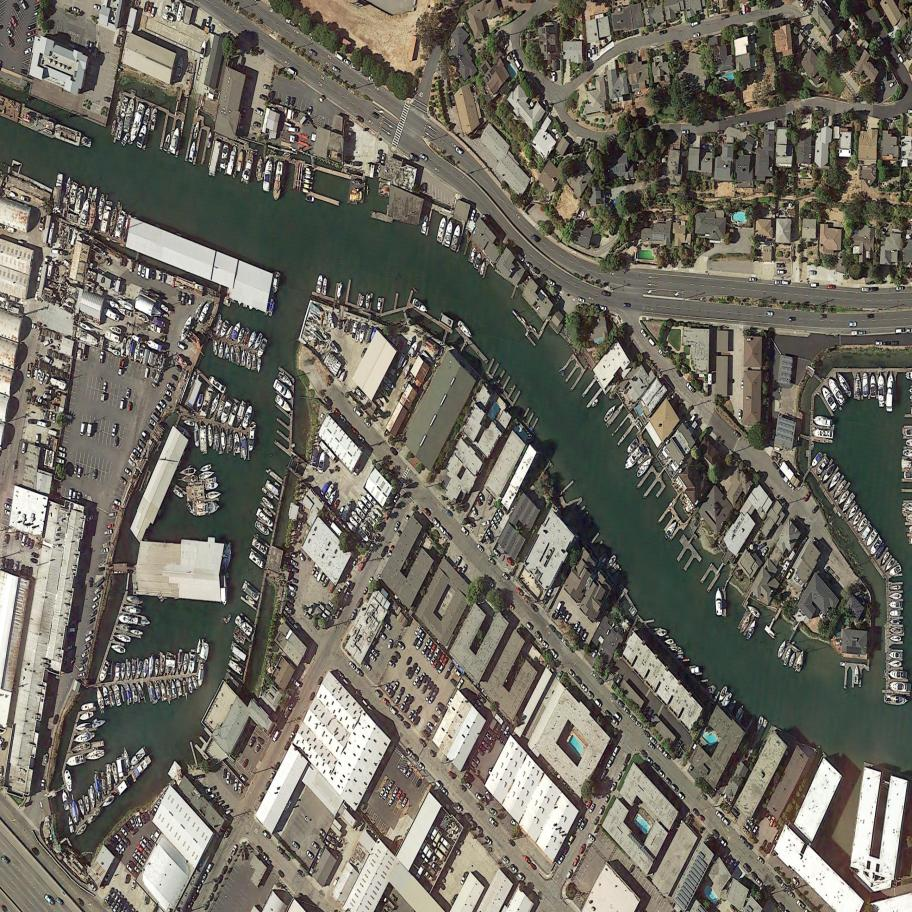large-vehicle: (381, 896, 396, 912), (438, 835, 452, 850), (432, 847, 446, 861), (436, 841, 449, 856), (420, 843, 432, 859), (431, 832, 442, 849), (414, 864, 425, 881), (423, 848, 435, 863), (429, 826, 440, 841), (117, 359, 125, 377), (114, 277, 122, 293), (286, 67, 298, 77), (239, 846, 247, 861), (86, 423, 93, 438), (79, 422, 86, 436), (287, 126, 299, 133)
ship: (14, 102, 61, 139), (51, 122, 85, 147), (128, 102, 147, 144), (825, 376, 848, 407), (620, 445, 645, 473), (270, 378, 296, 403), (130, 754, 154, 781), (833, 370, 855, 399), (271, 161, 286, 203), (197, 386, 215, 421), (231, 614, 256, 638), (218, 539, 235, 574), (819, 385, 840, 413), (226, 641, 250, 664), (272, 393, 295, 416), (52, 171, 64, 215), (122, 98, 136, 134), (233, 399, 249, 430), (178, 313, 194, 344), (254, 508, 276, 530), (455, 319, 476, 342), (634, 456, 655, 479), (240, 582, 262, 603), (275, 369, 297, 390), (126, 747, 148, 768), (839, 492, 858, 516), (262, 157, 274, 194), (242, 151, 255, 185), (207, 375, 229, 395), (225, 658, 247, 678), (219, 398, 235, 425), (252, 519, 273, 539), (114, 208, 127, 240), (831, 478, 849, 501), (86, 201, 98, 235), (214, 394, 228, 423), (226, 401, 241, 428), (661, 519, 679, 541), (193, 502, 221, 516), (208, 391, 223, 417), (226, 145, 238, 177), (263, 479, 283, 498), (247, 551, 267, 570), (820, 463, 838, 484), (601, 403, 619, 424), (449, 223, 462, 252), (435, 216, 448, 245), (197, 301, 212, 326), (814, 456, 831, 478), (69, 794, 81, 825), (738, 612, 754, 635), (883, 693, 909, 707), (250, 537, 270, 555), (169, 126, 181, 156), (83, 748, 107, 763), (410, 298, 431, 315), (241, 405, 255, 430), (443, 219, 455, 248), (744, 618, 759, 641), (826, 471, 842, 492), (97, 660, 111, 684), (108, 206, 119, 236), (886, 371, 894, 412), (100, 206, 112, 233), (171, 352, 190, 369), (175, 424, 194, 441), (868, 536, 884, 556), (80, 198, 91, 227), (136, 123, 148, 149), (72, 731, 96, 744), (219, 143, 230, 171), (255, 337, 269, 359), (624, 437, 641, 455), (745, 602, 762, 620), (218, 576, 228, 606), (340, 500, 353, 523), (94, 685, 105, 712), (813, 414, 834, 428), (406, 339, 420, 360), (260, 495, 277, 512), (100, 793, 117, 810), (73, 822, 90, 839), (809, 451, 825, 469), (247, 421, 256, 453), (794, 649, 806, 673), (812, 427, 834, 440), (68, 181, 79, 207), (864, 529, 879, 548), (716, 684, 730, 704), (116, 298, 136, 312), (93, 772, 103, 800), (65, 754, 86, 767), (358, 493, 374, 510), (855, 516, 870, 534), (859, 523, 874, 541), (196, 663, 206, 690), (326, 339, 341, 357), (132, 310, 151, 324), (145, 338, 164, 352), (776, 638, 788, 660), (63, 769, 74, 793), (70, 741, 92, 753), (96, 193, 106, 219), (218, 319, 231, 339), (121, 603, 142, 615), (837, 489, 851, 507), (846, 503, 860, 521), (850, 511, 864, 529), (192, 301, 204, 322), (878, 373, 885, 408), (117, 614, 139, 625), (149, 108, 159, 132), (113, 683, 123, 707), (271, 271, 281, 295), (246, 330, 258, 350), (252, 332, 264, 352), (419, 350, 434, 366), (199, 641, 211, 661), (356, 527, 370, 544), (604, 554, 618, 571), (151, 316, 168, 330), (146, 322, 164, 335), (323, 483, 336, 501), (116, 306, 134, 319), (122, 747, 131, 773), (200, 426, 208, 455), (175, 56, 186, 77), (125, 594, 144, 606), (113, 632, 132, 644), (198, 469, 217, 481), (382, 376, 397, 391), (356, 499, 370, 515), (385, 334, 401, 348), (359, 523, 373, 539), (159, 11, 176, 24), (879, 550, 892, 567), (883, 556, 896, 573), (119, 131, 132, 148), (119, 97, 129, 119), (194, 392, 205, 412), (231, 321, 242, 341), (311, 448, 321, 470), (722, 691, 734, 709), (344, 519, 358, 534), (349, 509, 363, 524), (353, 505, 367, 520), (142, 105, 152, 126), (171, 486, 186, 500), (782, 647, 792, 668), (101, 685, 111, 706), (325, 311, 336, 330), (887, 564, 903, 577), (189, 648, 197, 674), (336, 369, 349, 385), (375, 390, 388, 406), (317, 451, 326, 474), (236, 150, 245, 173), (188, 140, 197, 163), (61, 789, 70, 812), (267, 295, 276, 318), (110, 643, 127, 655), (162, 133, 172, 153), (179, 473, 199, 483), (115, 119, 124, 141), (396, 353, 407, 371), (261, 506, 275, 520), (715, 588, 722, 616), (365, 492, 378, 507), (319, 481, 331, 497), (327, 489, 339, 505), (100, 772, 108, 796), (89, 785, 97, 809), (199, 40, 208, 61), (195, 637, 202, 664), (421, 214, 430, 235), (315, 273, 324, 294), (116, 757, 125, 778), (734, 704, 745, 721), (90, 718, 107, 729), (78, 710, 95, 721), (401, 363, 412, 380), (80, 135, 94, 148), (347, 515, 360, 529), (193, 421, 200, 447), (241, 435, 248, 461), (372, 394, 385, 408), (153, 680, 162, 700), (108, 687, 117, 707), (889, 670, 907, 680), (77, 798, 86, 818), (236, 327, 246, 345), (358, 323, 366, 345), (78, 322, 94, 333), (111, 762, 119, 784), (104, 299, 120, 310), (164, 654, 172, 676), (148, 654, 155, 679), (473, 251, 482, 270), (469, 245, 478, 264), (192, 121, 201, 140), (75, 722, 92, 732), (214, 319, 224, 336), (404, 336, 414, 353), (244, 594, 257, 607), (148, 681, 156, 702), (133, 342, 141, 363), (368, 511, 380, 525), (184, 501, 195, 516), (653, 627, 668, 638), (108, 325, 123, 336), (179, 467, 197, 476), (182, 679, 189, 702), (125, 684, 133, 704), (160, 681, 168, 701), (170, 679, 178, 699), (182, 653, 190, 673), (64, 175, 72, 195), (79, 702, 95, 712), (124, 338, 132, 358), (855, 373, 861, 399), (214, 426, 220, 452), (256, 157, 263, 179), (351, 322, 359, 341), (136, 660, 144, 679), (131, 684, 139, 703), (110, 119, 118, 138), (67, 815, 75, 834), (119, 337, 127, 356), (142, 658, 149, 679), (365, 515, 377, 527), (378, 386, 390, 398), (478, 261, 487, 277), (206, 131, 214, 149), (206, 491, 222, 500), (220, 428, 226, 452), (788, 651, 796, 669), (242, 331, 251, 347), (609, 564, 622, 575), (364, 520, 375, 533), (138, 344, 145, 364), (336, 282, 343, 302), (870, 374, 876, 397), (177, 648, 183, 671), (137, 683, 145, 700), (756, 716, 764, 733), (190, 675, 199, 690), (225, 325, 234, 340), (114, 662, 121, 681), (166, 682, 173, 701), (120, 684, 127, 703), (380, 381, 391, 393), (227, 430, 233, 452), (131, 334, 144, 344), (109, 348, 122, 358), (342, 319, 350, 335), (171, 655, 177, 676), (205, 481, 219, 490), (234, 432, 240, 453), (863, 372, 868, 397), (589, 398, 600, 409), (6, 190, 18, 200), (131, 659, 137, 679), (322, 277, 328, 297), (176, 679, 183, 696), (84, 796, 91, 813), (116, 623, 129, 632), (208, 424, 213, 447), (120, 662, 126, 681), (854, 665, 860, 684), (160, 654, 166, 673), (92, 186, 99, 202), (154, 659, 160, 677), (183, 419, 196, 427), (199, 464, 212, 472), (889, 635, 902, 643), (365, 293, 371, 310), (889, 652, 903, 659), (888, 660, 902, 667), (126, 661, 131, 680), (246, 351, 251, 370), (129, 629, 142, 636), (889, 601, 902, 608), (889, 627, 902, 634), (188, 676, 193, 694), (231, 345, 236, 363), (219, 341, 224, 359), (304, 195, 315, 203), (358, 295, 365, 307), (889, 610, 901, 617), (105, 198, 114, 207), (256, 358, 261, 374), (87, 185, 93, 198), (377, 298, 383, 311), (889, 593, 902, 599), (114, 105, 121, 116), (225, 344, 230, 359), (173, 2, 179, 14), (664, 638, 674, 645), (252, 353, 256, 370), (889, 585, 902, 590), (242, 350, 246, 366), (214, 340, 218, 356), (890, 619, 900, 625), (226, 613, 232, 623), (222, 617, 228, 625), (171, 2, 175, 11)
small-vehicle: (42, 892, 58, 906), (351, 405, 364, 419), (683, 381, 697, 394), (352, 462, 363, 478), (459, 870, 470, 886), (487, 816, 500, 828), (614, 673, 625, 687), (578, 817, 588, 832), (521, 595, 533, 607), (795, 898, 807, 910), (29, 846, 41, 858), (430, 517, 442, 529), (459, 525, 471, 537), (548, 648, 560, 660), (484, 576, 495, 589), (355, 820, 366, 833), (383, 508, 393, 522), (309, 860, 318, 875), (36, 396, 48, 407), (131, 447, 142, 459), (81, 641, 93, 652), (90, 593, 102, 604), (609, 691, 620, 703), (662, 777, 674, 788), (533, 631, 544, 643), (486, 555, 497, 567), (504, 556, 516, 567), (713, 809, 724, 821), (323, 396, 334, 408), (556, 854, 567, 866), (474, 542, 485, 554), (41, 392, 54, 402), (4, 35, 14, 48), (229, 844, 239, 857), (599, 767, 609, 780), (378, 520, 388, 533), (408, 153, 421, 163), (349, 608, 359, 621), (605, 755, 615, 768), (566, 833, 576, 846), (128, 816, 137, 830), (785, 567, 794, 581), (75, 897, 86, 908), (136, 439, 147, 450), (615, 698, 626, 709), (641, 728, 652, 739), (505, 600, 516, 611), (742, 822, 753, 833), (514, 587, 525, 598), (283, 604, 294, 615), (718, 837, 729, 848), (790, 876, 801, 887), (754, 877, 765, 888), (646, 337, 657, 348), (656, 768, 667, 779), (586, 832, 597, 843), (508, 863, 519, 874), (261, 829, 272, 840), (291, 678, 302, 689), (430, 714, 441, 725), (421, 729, 432, 740), (608, 716, 619, 727), (362, 661, 373, 672), (388, 705, 399, 716), (612, 711, 623, 722), (566, 668, 577, 679), (10, 1, 20, 13), (0, 740, 10, 752), (77, 664, 89, 674), (639, 748, 649, 760), (529, 602, 539, 614), (355, 597, 365, 609), (802, 491, 812, 503), (785, 889, 797, 899), (417, 760, 427, 772), (418, 737, 428, 749), (487, 764, 497, 776), (426, 679, 436, 691), (401, 703, 411, 715), (423, 724, 433, 736), (455, 678, 465, 690), (5, 26, 14, 39), (106, 895, 115, 908), (89, 879, 98, 892), (896, 52, 905, 65), (386, 779, 395, 792), (571, 855, 580, 868), (222, 826, 231, 839), (392, 520, 401, 533), (485, 528, 494, 541), (38, 216, 45, 232), (858, 594, 866, 608), (43, 355, 54, 365), (165, 383, 176, 393), (157, 399, 167, 410), (54, 896, 65, 906), (148, 833, 158, 844), (119, 826, 129, 837), (55, 456, 66, 466), (126, 458, 137, 468), (134, 443, 144, 454), (79, 656, 90, 666), (80, 650, 91, 660), (651, 762, 662, 772), (363, 417, 373, 428), (382, 621, 392, 632), (698, 792, 709, 802), (356, 433, 366, 444), (348, 427, 359, 437), (332, 407, 342, 418), (285, 595, 296, 605), (389, 446, 399, 457), (367, 75, 378, 85), (355, 114, 366, 124), (531, 233, 541, 244), (786, 481, 796, 492), (760, 547, 770, 558), (810, 536, 820, 547), (730, 807, 740, 818), (743, 840, 753, 851), (773, 874, 784, 884), (687, 413, 697, 424), (657, 348, 667, 359), (639, 328, 649, 339), (353, 667, 363, 678), (474, 802, 485, 812), (463, 813, 474, 823), (440, 786, 450, 797), (522, 854, 532, 865), (483, 835, 493, 846), (509, 819, 520, 829), (474, 791, 484, 802), (271, 731, 281, 742), (305, 849, 315, 860), (255, 736, 266, 746), (669, 783, 680, 793), (431, 686, 441, 697), (484, 731, 494, 742), (482, 736, 492, 747), (472, 754, 482, 765), (422, 508, 432, 519), (438, 526, 448, 537), (444, 508, 455, 518), (404, 655, 414, 666), (406, 669, 416, 680), (397, 686, 407, 697), (406, 695, 416, 706), (401, 720, 412, 730), (412, 715, 422, 726), (662, 750, 672, 761), (634, 719, 645, 729), (459, 563, 469, 574), (41, 338, 53, 347), (307, 48, 319, 57), (199, 872, 208, 884), (122, 822, 131, 834), (648, 713, 657, 725), (486, 494, 495, 506), (367, 542, 376, 554), (371, 533, 380, 545), (332, 499, 341, 511), (525, 74, 534, 86), (756, 542, 768, 551), (726, 858, 735, 870), (204, 786, 216, 795), (565, 868, 574, 880), (257, 791, 266, 803), (283, 740, 292, 752), (263, 779, 272, 791), (423, 647, 432, 659), (393, 694, 402, 706), (454, 555, 463, 567), (624, 752, 632, 765), (360, 347, 368, 360), (768, 815, 776, 828), (555, 601, 563, 614), (494, 512, 502, 525), (484, 533, 492, 546), (150, 413, 160, 423), (138, 854, 148, 864), (119, 840, 129, 850), (116, 843, 126, 853), (114, 846, 124, 856), (131, 851, 141, 861), (603, 709, 613, 719), (586, 690, 596, 700), (525, 622, 535, 632), (285, 600, 295, 610), (288, 558, 298, 568), (720, 816, 730, 826), (604, 198, 614, 208), (334, 52, 344, 62), (454, 146, 464, 156), (888, 79, 898, 89), (756, 855, 766, 865), (780, 882, 790, 892), (742, 863, 752, 873), (410, 753, 420, 763), (434, 780, 444, 790), (516, 872, 526, 882), (501, 855, 511, 865), (528, 861, 538, 871), (282, 852, 292, 862), (237, 774, 247, 784), (277, 869, 287, 879), (676, 791, 686, 801), (645, 756, 655, 766), (478, 743, 488, 753), (449, 678, 459, 688), (480, 740, 490, 750), (469, 760, 479, 770), (392, 650, 402, 660), (434, 706, 444, 716), (655, 743, 665, 753), (622, 706, 632, 716), (579, 683, 589, 693), (453, 667, 463, 677), (30, 322, 41, 331), (173, 364, 184, 373), (254, 108, 265, 117), (26, 29, 37, 38), (24, 35, 35, 44), (125, 820, 134, 831), (83, 635, 94, 644), (596, 647, 605, 658), (765, 812, 774, 823), (577, 628, 586, 639), (376, 573, 385, 584), (358, 560, 367, 571), (287, 585, 298, 594), (337, 506, 346, 517), (392, 493, 401, 504), (330, 65, 341, 74), (514, 60, 523, 71), (876, 36, 885, 47), (777, 468, 786, 479), (415, 777, 424, 788), (447, 770, 456, 781), (587, 802, 596, 813), (592, 815, 601, 826), (488, 808, 499, 817), (211, 795, 222, 804), (317, 827, 326, 838), (208, 791, 219, 800), (308, 691, 317, 702), (503, 725, 512, 736), (480, 520, 491, 529), (430, 683, 439, 694), (411, 636, 420, 647), (438, 653, 447, 664), (413, 625, 422, 636), (368, 652, 377, 663), (491, 516, 500, 527), (414, 639, 423, 650), (425, 651, 434, 662), (593, 698, 602, 709), (427, 694, 436, 705), (424, 691, 433, 702), (424, 636, 433, 647), (441, 656, 450, 667), (43, 372, 50, 386), (7, 20, 15, 32), (205, 862, 213, 874), (136, 816, 144, 828), (68, 656, 76, 668), (75, 671, 87, 679), (642, 705, 650, 717), (675, 739, 683, 751), (590, 648, 598, 660), (687, 762, 695, 774), (572, 621, 580, 633), (751, 825, 759, 837), (581, 631, 589, 643), (561, 609, 569, 621), (334, 588, 342, 600), (322, 576, 330, 588), (510, 50, 518, 62), (760, 838, 768, 850), (721, 851, 729, 863), (398, 792, 406, 804), (578, 843, 586, 855), (292, 724, 300, 736), (495, 729, 503, 741), (298, 552, 306, 564), (383, 681, 391, 693), (490, 520, 498, 532), (99, 351, 106, 364), (140, 265, 147, 278), (35, 369, 42, 382), (76, 466, 83, 479), (317, 847, 324, 860), (176, 342, 186, 351), (140, 432, 150, 441), (152, 408, 162, 417), (163, 394, 173, 403), (170, 373, 180, 382), (26, 363, 32, 378), (39, 370, 45, 385), (163, 4, 173, 13), (259, 93, 269, 102), (139, 435, 148, 445), (0, 855, 10, 864), (143, 846, 152, 856), (117, 830, 126, 840), (108, 839, 117, 849), (129, 856, 139, 865), (138, 839, 147, 849), (101, 540, 111, 549), (85, 514, 95, 523), (64, 412, 74, 421), (119, 477, 128, 487), (64, 644, 74, 653), (87, 617, 97, 626), (89, 609, 99, 618), (90, 602, 100, 611), (573, 676, 583, 685), (711, 828, 720, 838), (338, 414, 347, 424), (286, 589, 296, 598), (445, 532, 454, 542), (737, 835, 747, 844), (342, 57, 352, 66), (419, 153, 429, 162), (517, 254, 526, 264), (524, 261, 534, 270), (801, 30, 811, 39), (547, 278, 557, 287), (732, 429, 741, 439), (811, 505, 820, 515), (508, 838, 517, 848), (475, 826, 484, 836), (454, 802, 463, 812), (404, 748, 414, 757), (464, 779, 473, 789), (459, 784, 469, 793), (427, 748, 436, 758), (218, 804, 228, 813), (254, 845, 263, 855), (215, 799, 225, 808), (311, 841, 320, 851), (291, 840, 300, 850), (287, 701, 296, 711), (333, 834, 342, 844), (241, 759, 250, 769), (273, 761, 282, 771), (443, 670, 452, 680), (437, 702, 446, 712), (476, 747, 486, 756), (347, 660, 356, 670), (390, 654, 399, 664), (381, 697, 391, 706), (378, 632, 387, 642), (370, 648, 379, 658), (426, 721, 435, 731), (647, 741, 656, 751), (648, 735, 658, 744), (501, 572, 511, 581), (589, 669, 598, 679), (413, 666, 422, 676), (412, 676, 421, 686), (10, 16, 18, 27), (52, 714, 60, 725), (56, 451, 67, 459), (83, 629, 94, 637), (96, 566, 107, 574), (27, 539, 35, 550), (564, 613, 572, 624), (334, 609, 342, 620), (313, 568, 321, 579), (367, 576, 375, 587), (370, 112, 381, 120), (805, 5, 813, 16), (405, 768, 413, 779), (392, 787, 400, 798), (395, 789, 403, 800), (382, 789, 390, 800), (379, 786, 387, 797), (430, 643, 438, 654), (611, 746, 619, 757), (609, 781, 617, 792), (603, 793, 611, 804), (598, 804, 606, 815), (221, 864, 229, 875), (248, 737, 256, 748), (269, 769, 277, 780), (436, 649, 444, 660), (434, 660, 442, 671), (410, 662, 418, 673), (410, 712, 418, 723), (415, 704, 423, 715), (415, 679, 423, 690), (419, 631, 427, 642), (386, 684, 394, 695), (399, 701, 407, 712), (407, 709, 415, 720), (429, 655, 437, 666), (546, 586, 554, 597), (556, 670, 564, 681), (136, 263, 142, 277), (118, 398, 125, 410), (152, 804, 159, 816), (771, 818, 778, 830), (470, 209, 477, 221), (401, 797, 408, 809), (225, 771, 231, 785), (284, 708, 291, 720), (497, 507, 504, 519), (478, 492, 485, 504), (392, 680, 399, 692), (148, 418, 157, 427), (164, 389, 173, 398), (135, 862, 144, 871), (122, 901, 131, 910), (140, 835, 149, 844), (111, 836, 120, 845), (124, 468, 133, 477), (303, 612, 312, 621), (386, 550, 395, 559), (403, 514, 412, 523), (531, 267, 540, 276), (749, 871, 758, 880), (276, 846, 285, 855), (202, 901, 211, 910), (224, 808, 233, 817), (259, 852, 268, 861), (396, 713, 405, 722), (396, 642, 405, 651), (387, 660, 396, 669), (628, 714, 637, 723), (44, 387, 54, 395), (27, 23, 37, 31), (23, 47, 33, 55), (104, 894, 112, 904), (119, 897, 127, 907), (116, 894, 124, 904), (195, 883, 203, 893), (4, 497, 14, 505), (57, 445, 67, 453), (2, 508, 12, 516), (3, 502, 13, 510), (191, 891, 199, 901), (186, 900, 194, 910), (575, 625, 583, 635), (363, 552, 371, 562), (290, 566, 300, 574), (598, 304, 608, 312), (387, 796, 395, 806), (211, 883, 219, 893), (288, 731, 296, 741), (332, 877, 340, 887), (253, 743, 261, 753), (447, 662, 455, 672), (500, 722, 508, 732), (424, 677, 432, 687), (403, 693, 411, 703), (433, 647, 441, 657), (180, 293, 186, 306), (43, 752, 49, 765), (20, 196, 31, 203), (114, 891, 121, 902), (100, 880, 107, 891), (143, 811, 150, 822), (133, 816, 140, 827), (99, 548, 110, 555), (646, 710, 653, 721), (558, 606, 565, 617), (343, 591, 350, 602), (328, 584, 335, 595), (601, 291, 612, 298), (620, 762, 627, 773), (616, 771, 623, 782), (317, 675, 324, 686), (502, 736, 509, 747), (499, 732, 506, 743), (432, 657, 439, 668), (422, 673, 429, 684), (427, 639, 434, 650), (187, 294, 193, 306), (127, 401, 133, 413), (147, 423, 156, 431), (155, 405, 164, 413), (205, 16, 211, 28), (147, 2, 153, 14), (133, 866, 141, 875), (126, 863, 134, 872), (109, 900, 117, 909), (143, 894, 149, 906), (114, 833, 122, 842), (134, 849, 142, 858), (136, 844, 145, 852), (111, 504, 120, 512), (76, 492, 82, 504), (92, 469, 98, 481), (3, 532, 9, 544), (7, 559, 13, 571), (541, 641, 550, 649), (290, 577, 299, 585), (288, 551, 297, 559), (502, 42, 510, 51), (345, 119, 354, 127), (380, 152, 386, 164), (772, 461, 780, 470), (577, 296, 586, 304), (233, 779, 239, 791), (328, 843, 337, 851), (471, 506, 477, 518), (388, 689, 396, 698), (416, 629, 424, 638), (437, 665, 445, 674), (50, 248, 60, 255), (30, 11, 40, 18), (111, 889, 118, 899), (104, 873, 111, 883), (103, 529, 113, 536), (105, 522, 115, 529), (352, 557, 359, 567), (473, 213, 480, 223), (739, 120, 749, 127), (883, 117, 893, 124), (772, 451, 782, 458), (207, 892, 214, 902), (226, 855, 233, 865), (421, 645, 428, 655), (419, 672, 426, 682), (141, 814, 147, 825), (23, 566, 29, 577), (27, 568, 33, 579), (745, 3, 751, 14), (482, 796, 488, 807), (485, 791, 491, 802), (387, 639, 393, 650), (112, 424, 117, 437), (141, 851, 149, 859), (145, 842, 153, 850), (123, 837, 131, 845), (697, 814, 705, 822), (692, 808, 700, 816), (327, 600, 335, 608), (389, 546, 397, 554), (493, 549, 501, 557), (253, 121, 262, 128), (71, 6, 80, 13), (156, 797, 163, 806), (109, 511, 118, 518), (113, 499, 122, 506), (540, 274, 549, 281), (691, 21, 700, 28), (692, 32, 701, 39), (810, 282, 819, 289), (895, 327, 904, 334), (420, 685, 427, 694), (405, 667, 412, 676), (129, 261, 134, 273), (35, 434, 40, 446), (21, 442, 26, 454), (285, 95, 291, 105), (88, 41, 93, 53), (131, 879, 136, 891), (124, 874, 130, 884), (45, 739, 51, 749), (71, 491, 76, 503), (68, 489, 73, 501), (73, 464, 78, 476), (87, 577, 93, 587), (13, 561, 18, 573), (20, 564, 25, 576), (320, 573, 326, 583), (311, 566, 317, 576), (297, 520, 302, 532), (449, 94, 455, 104), (269, 91, 275, 101), (217, 874, 223, 884), (237, 783, 242, 795), (93, 4, 101, 11), (138, 859, 145, 867), (128, 861, 136, 868), (108, 887, 115, 895), (131, 828, 139, 835), (67, 627, 75, 634), (31, 551, 39, 558), (362, 587, 369, 595), (681, 128, 689, 135), (723, 858, 730, 866), (788, 316, 796, 323), (851, 330, 859, 337), (161, 274, 166, 285), (102, 382, 107, 393), (125, 388, 130, 399), (289, 97, 294, 108), (151, 7, 156, 18), (40, 779, 45, 790), (0, 558, 5, 569), (835, 115, 840, 126), (823, 116, 828, 127), (223, 768, 228, 779), (659, 29, 668, 35), (814, 106, 823, 112), (722, 14, 731, 20), (748, 277, 757, 283), (780, 280, 789, 286), (177, 291, 182, 301), (114, 437, 119, 447), (18, 531, 23, 541), (25, 537, 30, 547), (4, 560, 9, 570), (591, 45, 596, 55), (741, 5, 746, 15), (895, 286, 905, 291), (263, 84, 271, 90), (30, 558, 38, 564), (716, 129, 724, 135), (893, 115, 901, 121), (623, 303, 631, 309), (777, 269, 785, 275), (809, 270, 817, 276), (867, 313, 875, 319), (875, 340, 883, 346), (891, 340, 899, 346), (765, 411, 769, 423), (28, 419, 37, 424), (14, 530, 19, 539), (827, 285, 836, 290), (765, 311, 774, 316), (819, 314, 828, 319), (185, 294, 189, 305), (151, 269, 155, 280), (308, 106, 312, 117), (49, 410, 53, 421), (552, 72, 556, 83), (738, 409, 742, 420), (774, 280, 781, 286), (859, 330, 866, 336), (861, 286, 868, 292), (158, 272, 162, 282), (210, 24, 214, 34), (52, 414, 56, 424), (849, 322, 857, 327), (870, 287, 878, 292), (884, 341, 892, 346), (880, 81, 883, 93), (603, 194, 610, 199), (46, 436, 49, 447), (766, 397, 769, 408), (104, 97, 110, 102), (423, 184, 426, 194), (741, 379, 744, 389), (588, 49, 591, 58)
